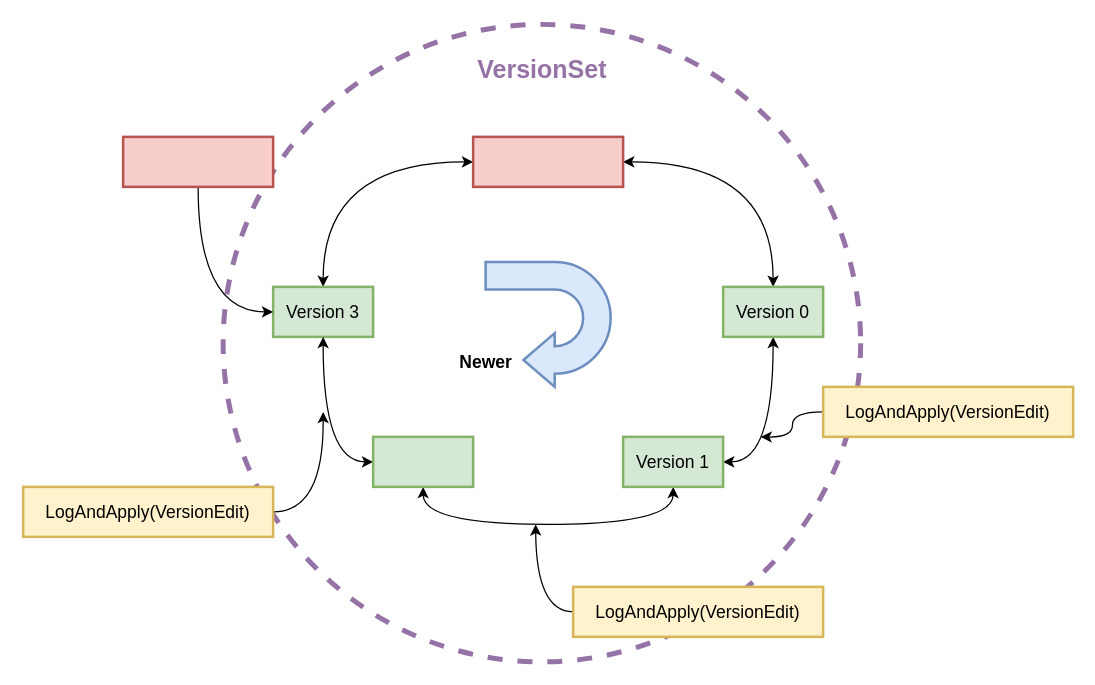
This 1095x685 diagram has some shape labels left out. The shapes that lost their labels are listed below. From the top down, each one's centre as x and y in pixels, then its label:
At (x=197, y=161): "Version* current_".
At (x=547, y=161): "Version dummy_versions_".
At (x=422, y=461): "Version 2".
